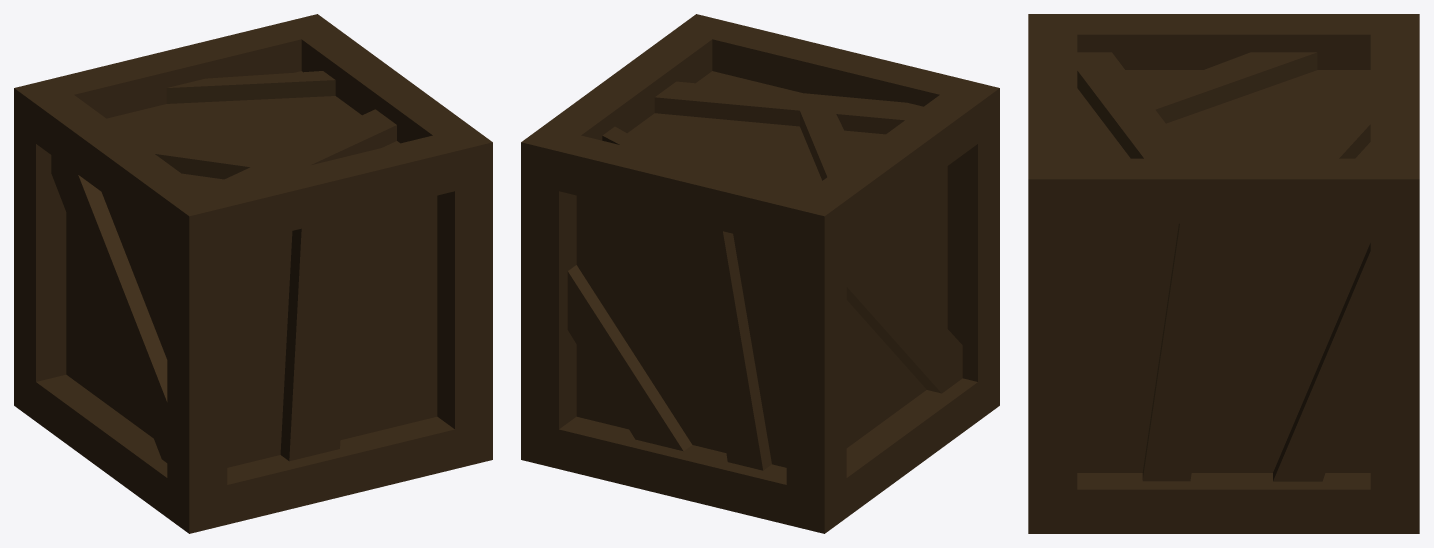
The model's file is woodbox.fbx.
3 views of the same model, side by side, from view 1: azimuth 30°, elevation 25°; view 2: azimuth 150°, elevation 25°; view 3: azimuth 270°, elevation 25° (orthographic). The views are drawn at different scales.
Visible parts, largest first — view 1: Cube; view 2: Cube; view 3: Cube.
Boxes of the visible parts, x1,y1,x2,y2 form: Cube: (14,14,492,533); Cube: (521,14,999,533); Cube: (1028,14,1419,533).
Size of the model in its own units: 200 by 200 by 200.
